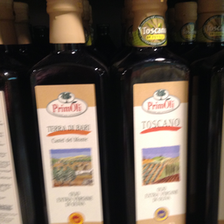oil: (26, 1, 116, 224), (113, 1, 190, 224)
